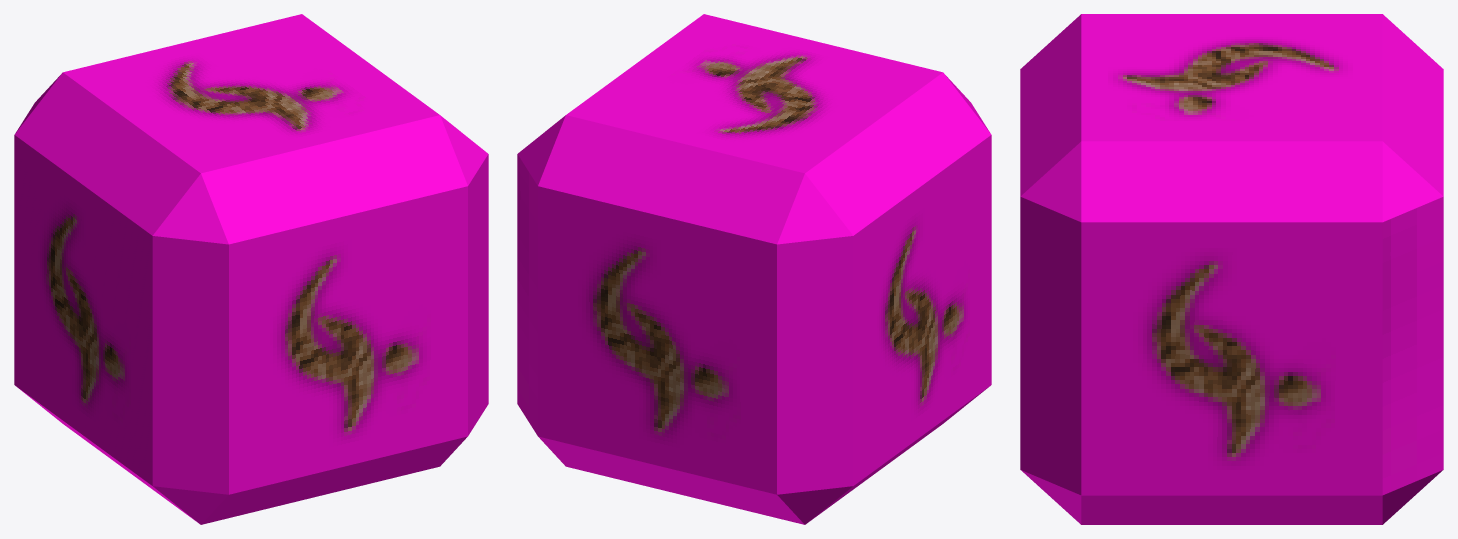
3 renders of one model, left to right at view 1: azimuth 30°, elevation 25°; view 2: azimuth 150°, elevation 25°; view 3: azimuth 270°, elevation 25°, orthographic. The views are drawn at different scales.
Parts seen in each view (by area): view 1: Symbol; view 2: Symbol; view 3: Symbol.
Part boxes in pixels (bbox=[...]): Symbol: bbox=[14, 14, 488, 524]; Symbol: bbox=[517, 14, 991, 524]; Symbol: bbox=[1020, 14, 1443, 524].
Bounding box in the file's own units: 200 × 200 × 200.
